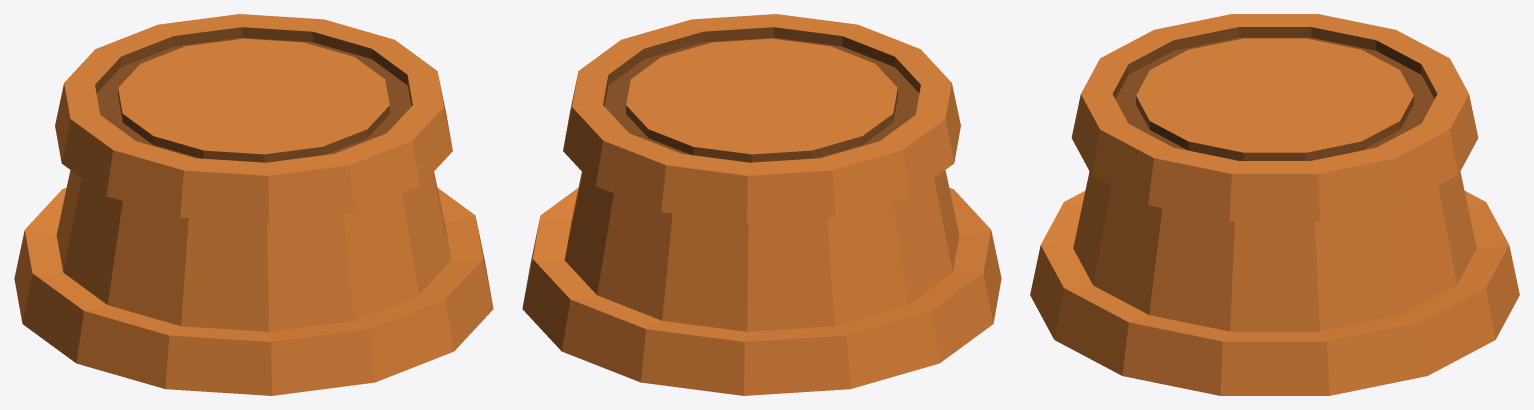
Rendered from item_pedestal.glb.
The picture shows the model from 3 angles, left to right: view 1: azimuth 30°, elevation 25°; view 2: azimuth 150°, elevation 25°; view 3: azimuth 270°, elevation 25°; orthographic projection.
Visible parts, largest first — view 1: Cylinder; view 2: Cylinder; view 3: Cylinder.
Part boxes in pixels (<box>): Cylinder: <box>14,14,493,395</box>; Cylinder: <box>522,14,1001,395</box>; Cylinder: <box>1030,14,1519,395</box>.
Size of the model in its own units: 8.44 by 3.92 by 8.66.
